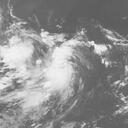cyclone: (33, 35, 87, 91)
